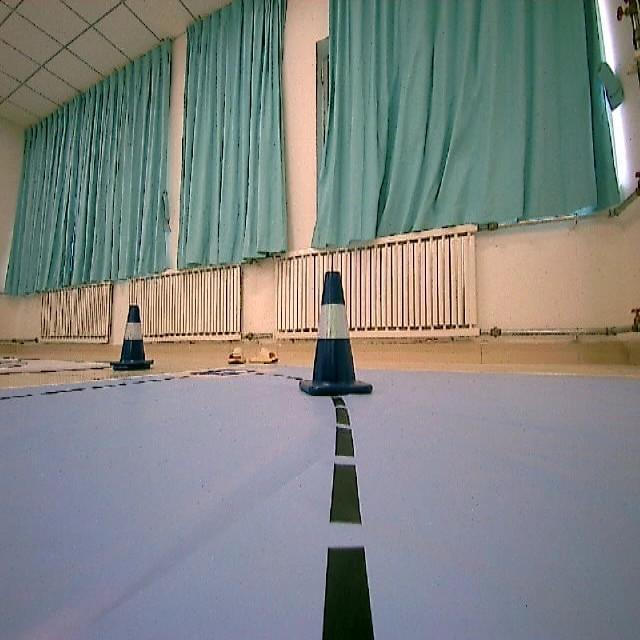obstacle: (292, 271, 382, 401), (109, 300, 163, 386)
